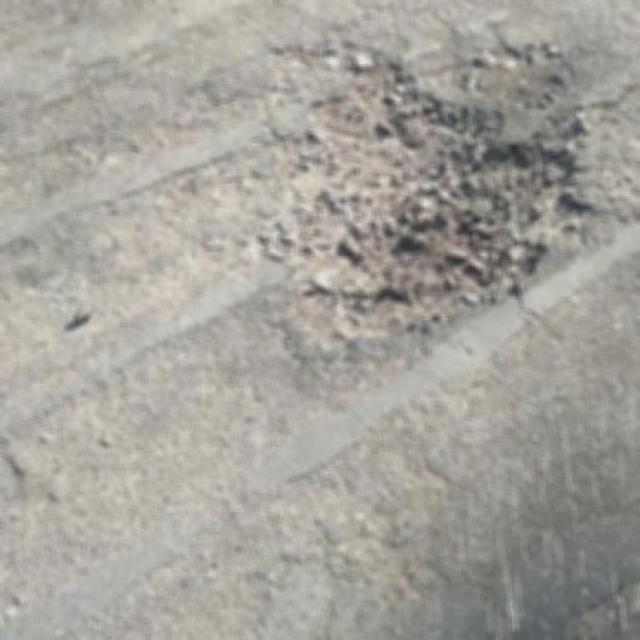road-pothole: (270, 32, 639, 378)
